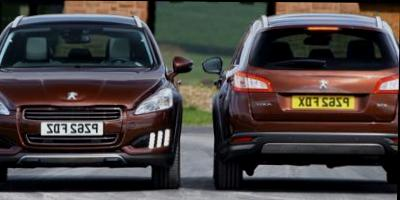License_Plate: (292, 95, 356, 109), (41, 121, 103, 135)
